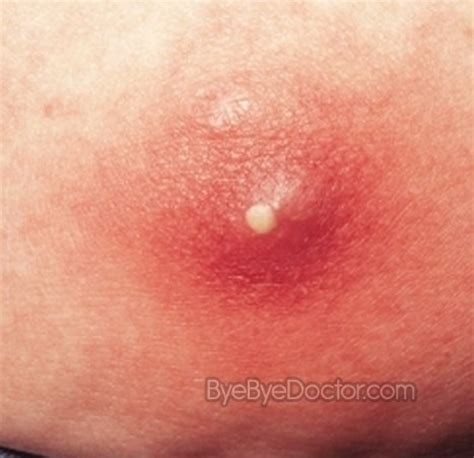Carbuncle: (208, 165, 320, 272)
